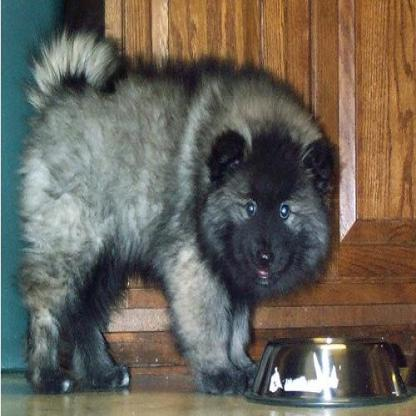keeshond: (17, 19, 336, 397)
